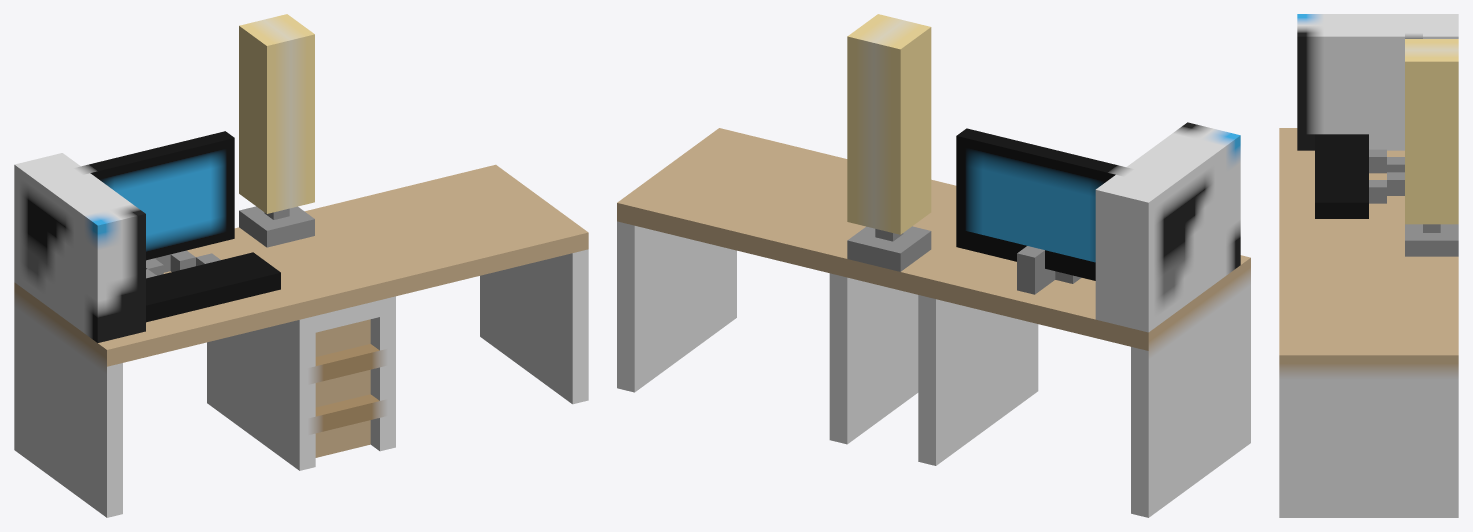
Rendered from Desk.fbx.
3 renders of one model, left to right at view 1: azimuth 30°, elevation 25°; view 2: azimuth 150°, elevation 25°; view 3: azimuth 270°, elevation 25°, orthographic. The views are drawn at different scales.
Visible parts, largest first — view 1: Desk, Computer, Lamp; view 2: Desk, Computer, Lamp; view 3: Desk, Computer, Lamp.
Boxes of the visible parts, bbox=[...] form: Desk: bbox=[14, 164, 588, 517]; Computer: bbox=[14, 131, 280, 342]; Lamp: bbox=[239, 14, 314, 247]; Desk: bbox=[617, 128, 1250, 517]; Computer: bbox=[956, 122, 1240, 332]; Lamp: bbox=[847, 14, 931, 271]; Desk: bbox=[1279, 128, 1458, 517]; Computer: bbox=[1297, 14, 1458, 218]; Lamp: bbox=[1405, 39, 1458, 256].
Bounding box in the file's own units: 30 × 22 × 10.
Materials: 1 (1 with a texture image).
